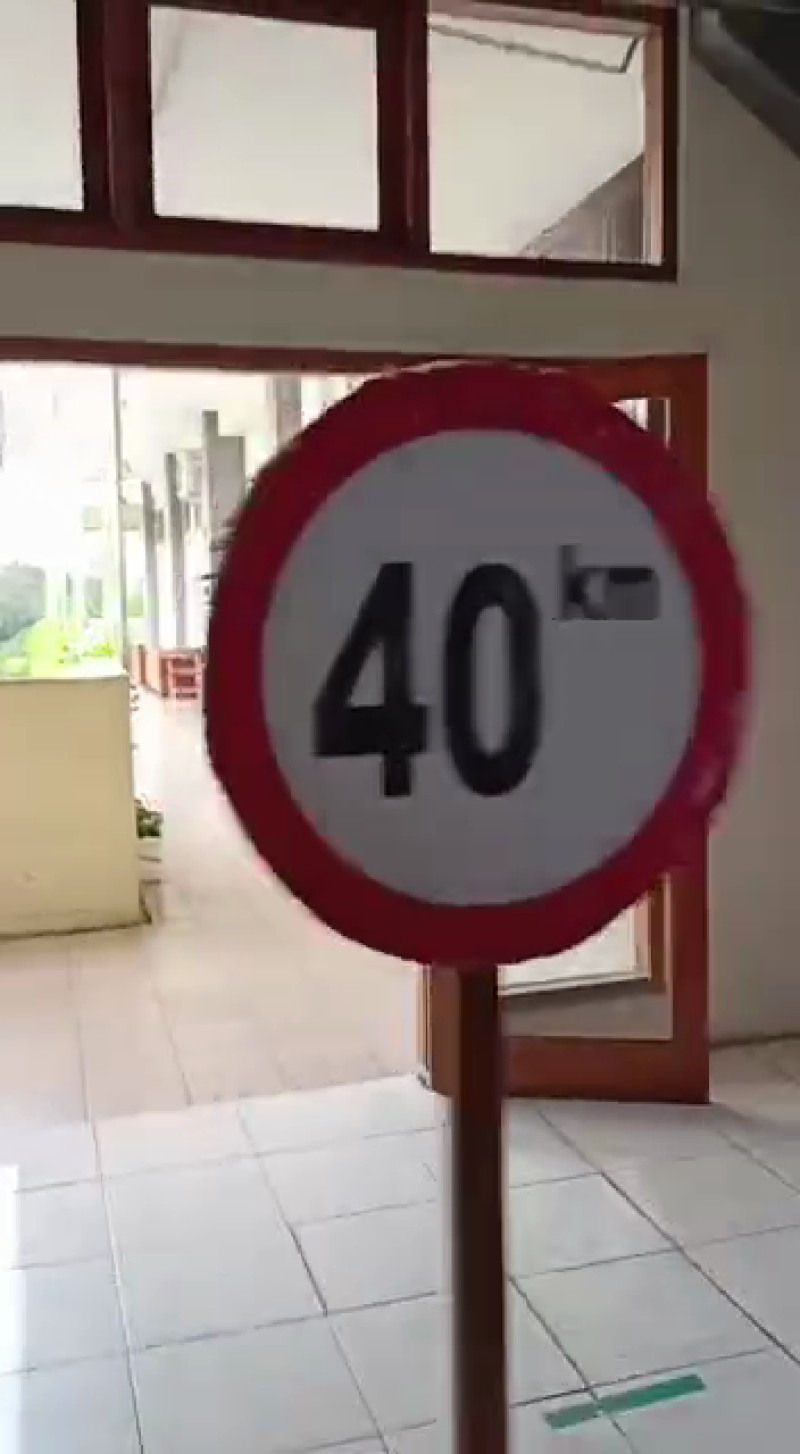batas maksimal 40kmperjam: (205, 368, 768, 1014)
